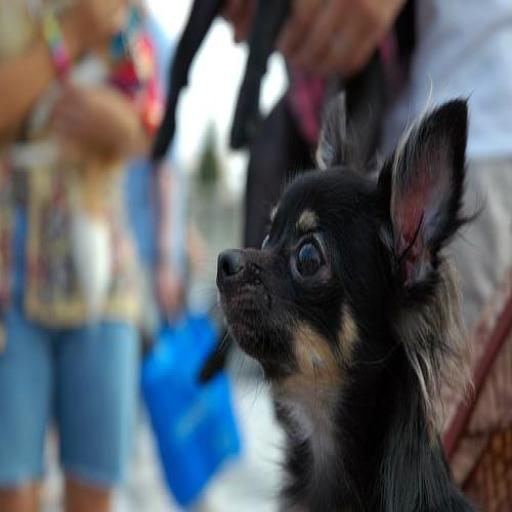dog_face: (221, 95, 473, 379)
